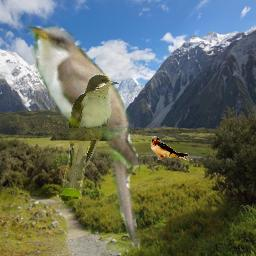Cuckoo: (20, 19, 145, 252), (59, 74, 120, 211)
Swallow: (150, 136, 193, 162)
